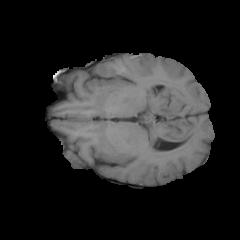glioma: (76, 53, 135, 122)
